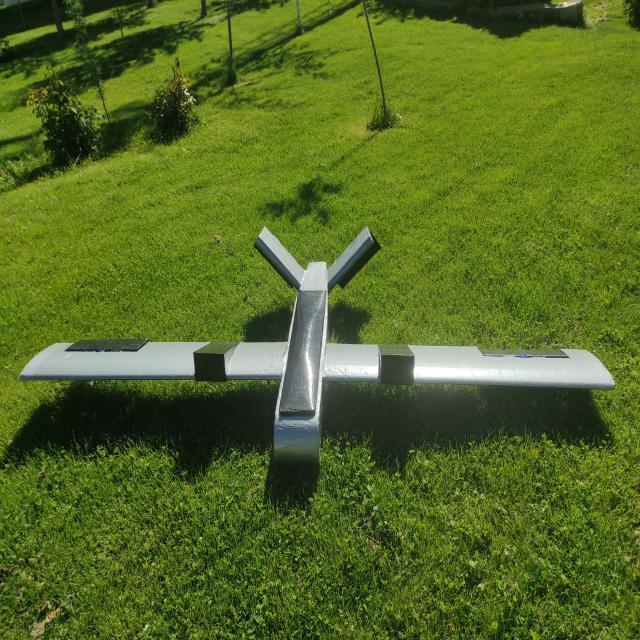UAV: (38, 188, 612, 506)
